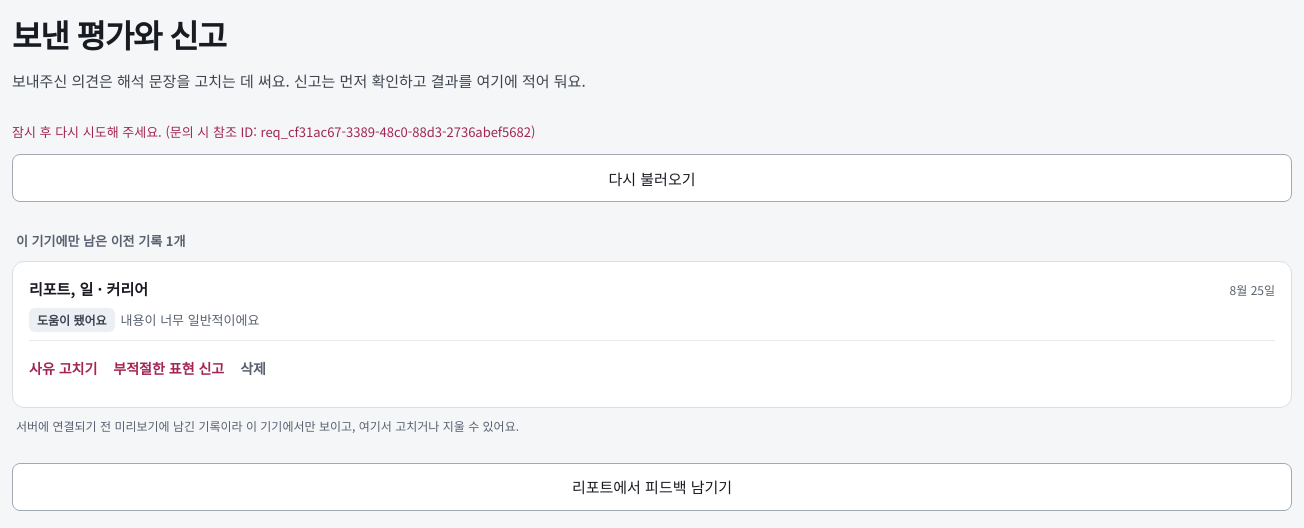
Test: feedback list › offers a retry when the server list fails while still showing local entries
Expected: the message shows "잠시 후 다시 시도해 주세요.", [12, 122, 535, 141]
Expected: the element "이 기기에만 남은 이전 기록 1개" is shown, [12, 230, 1292, 435]
Click the button "다시 불러오기" at coordinates (652, 178), box [12, 154, 1292, 202]
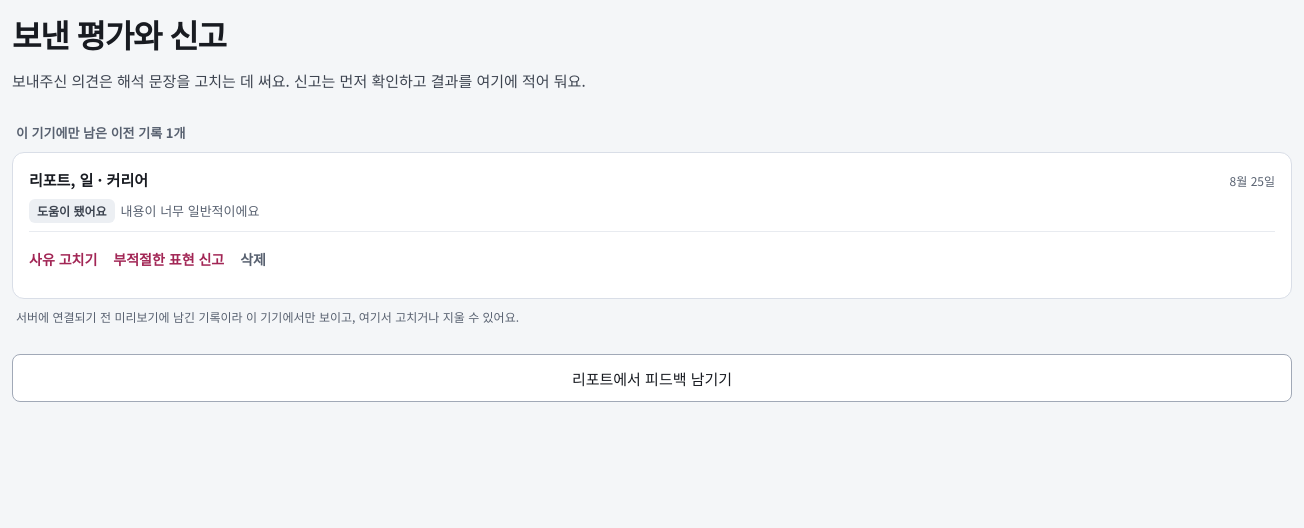
Expected: the message is gone
